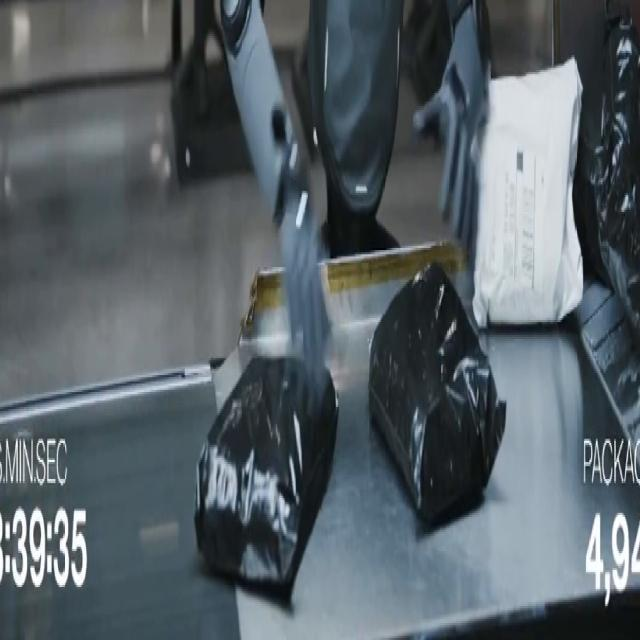package: (369, 263, 505, 525), (195, 359, 338, 599), (473, 60, 583, 328), (573, 3, 639, 341)
